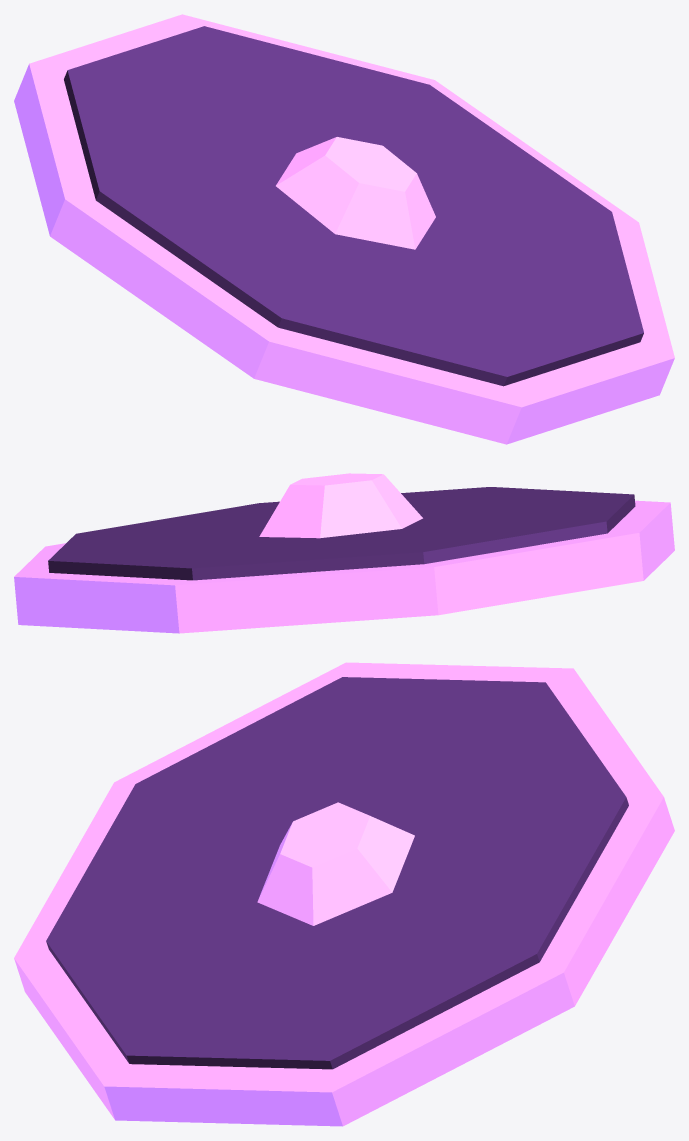
Rendered from spellguard_buckler.glb.
3 renders of one model, top to bottom at view 1: azimuth 30°, elevation 25°; view 2: azimuth 150°, elevation 25°; view 3: azimuth 270°, elevation 25°, orthographic. The views are drawn at different scales.
Parts seen in each view (by area): view 1: spellguard_buckler; view 2: spellguard_buckler; view 3: spellguard_buckler.
Part boxes in pixels (<box>): spellguard_buckler: <box>14,14,674,444</box>; spellguard_buckler: <box>14,473,674,633</box>; spellguard_buckler: <box>14,662,674,1126</box>.
Bounding box in the file's own units: 0.6547 × 0.2823 × 0.6547.
